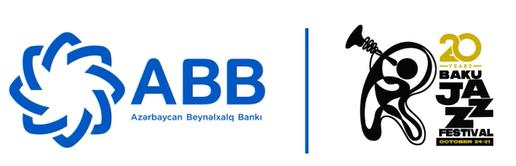ABB: (7, 31, 125, 148)
